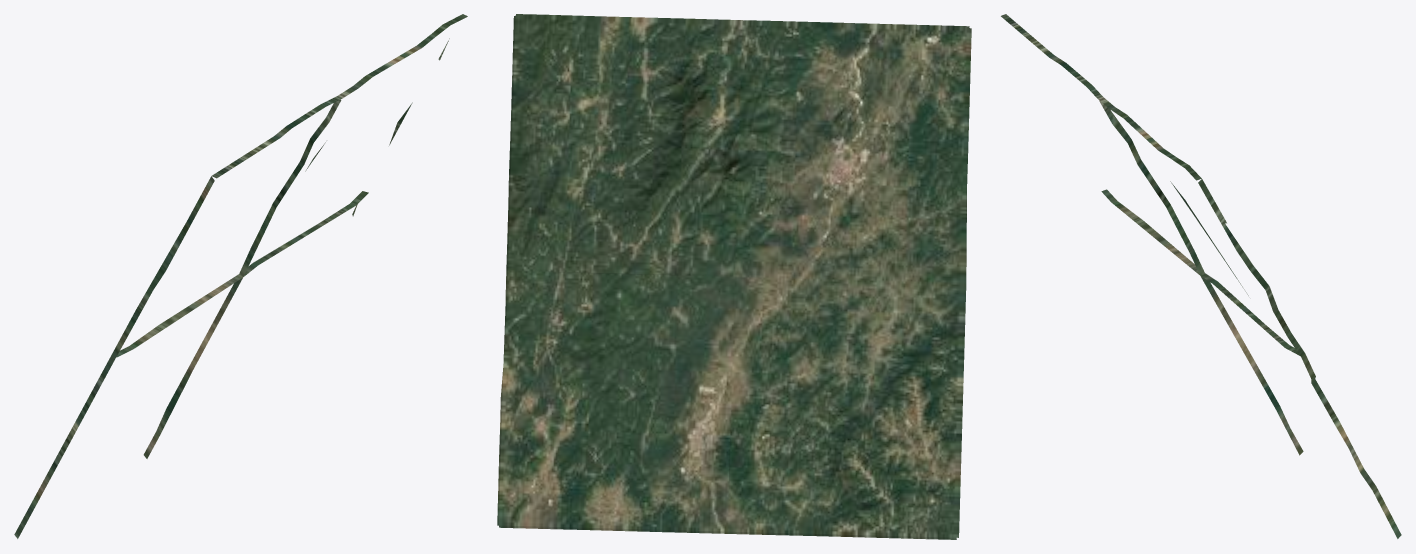
3 renders of one model, left to right at view 1: azimuth 30°, elevation 25°; view 2: azimuth 150°, elevation 25°; view 3: azimuth 270°, elevation 25°, orthographic. The views are drawn at different scales.
Size of the model in its own units: 79227 by 70684 by 63912.
Materials: 1 (1 with a texture image).
